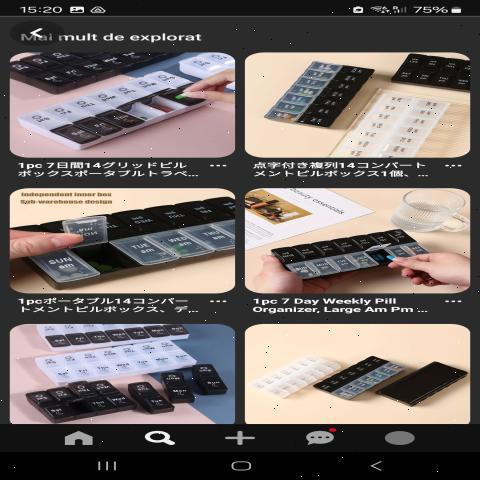PillBox: (13, 200, 245, 290), (13, 74, 228, 146), (269, 228, 439, 286), (256, 56, 376, 135), (316, 346, 410, 403), (380, 354, 470, 409)
